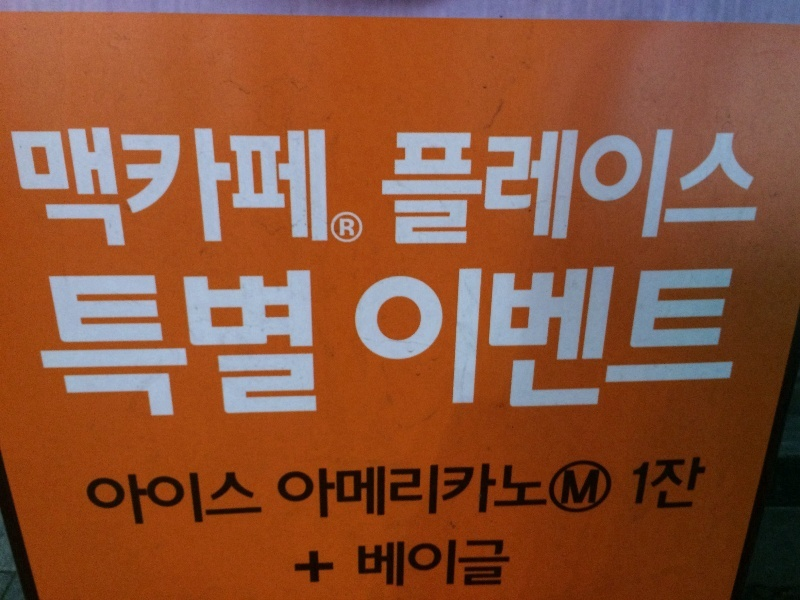text: (305, 267, 321, 423), (33, 267, 48, 423), (49, 267, 64, 423), (65, 267, 80, 423), (81, 267, 96, 423), (97, 267, 112, 423), (113, 267, 128, 423), (129, 267, 144, 423), (145, 267, 160, 423), (161, 267, 176, 423), (177, 267, 192, 423), (193, 267, 208, 423), (209, 267, 224, 423), (225, 267, 240, 423), (241, 267, 256, 423), (257, 267, 272, 423), (273, 267, 288, 423), (289, 267, 304, 423), (353, 262, 368, 413), (369, 262, 384, 413), (385, 262, 400, 413), (401, 262, 416, 413), (417, 262, 432, 413), (433, 262, 448, 413), (449, 262, 464, 413), (465, 262, 480, 413), (481, 262, 496, 413), (497, 262, 512, 413), (513, 262, 528, 413), (529, 262, 544, 413), (545, 262, 560, 413), (561, 262, 576, 413), (577, 262, 592, 413), (593, 262, 608, 413), (609, 262, 624, 413), (625, 262, 640, 413), (641, 262, 656, 413), (657, 262, 672, 413), (673, 262, 688, 413), (689, 262, 704, 413), (705, 262, 720, 413), (721, 262, 736, 413), (17, 125, 32, 253), (33, 125, 48, 253), (49, 125, 64, 253), (65, 125, 80, 253), (81, 125, 96, 253), (97, 125, 112, 253), (113, 125, 128, 253), (129, 125, 144, 253), (145, 125, 160, 253), (161, 125, 176, 253), (177, 125, 192, 253), (193, 125, 208, 253), (209, 125, 224, 253), (225, 125, 240, 253), (241, 125, 256, 253), (257, 125, 272, 253), (273, 125, 288, 253), (289, 125, 304, 253), (305, 125, 320, 253), (385, 126, 400, 250), (401, 126, 416, 250), (417, 126, 432, 250), (433, 126, 448, 250), (449, 126, 464, 250), (465, 126, 480, 250), (481, 126, 496, 250), (497, 126, 512, 250), (513, 126, 528, 250), (529, 126, 544, 250), (545, 126, 560, 250), (561, 126, 576, 250), (577, 126, 592, 250), (593, 126, 608, 250), (609, 126, 624, 250), (625, 126, 640, 250), (641, 126, 656, 250), (657, 126, 672, 250), (673, 126, 688, 250), (689, 126, 704, 250), (705, 126, 720, 250), (721, 126, 736, 250), (737, 126, 752, 250), (321, 125, 332, 253), (737, 262, 745, 413), (753, 126, 762, 250), (8, 125, 16, 253), (289, 461, 304, 521), (305, 461, 320, 521), (321, 461, 336, 521), (337, 461, 352, 521), (353, 461, 368, 521), (369, 461, 384, 521), (385, 461, 400, 521), (401, 461, 416, 521), (417, 461, 432, 521), (433, 461, 448, 521), (449, 461, 464, 521), (465, 461, 480, 521), (481, 461, 496, 521), (497, 461, 512, 521), (513, 461, 528, 521), (529, 461, 544, 521), (97, 470, 112, 529), (113, 470, 128, 529), (129, 470, 144, 529), (145, 470, 160, 529), (161, 470, 176, 529), (177, 470, 192, 529), (193, 470, 208, 529), (209, 470, 224, 529), (225, 470, 240, 529), (241, 470, 256, 529), (641, 455, 656, 512), (657, 455, 672, 512), (673, 455, 688, 512), (689, 455, 704, 512), (82, 470, 96, 529), (369, 538, 384, 588), (385, 538, 400, 588), (401, 538, 416, 588), (417, 538, 432, 588), (433, 538, 448, 588), (449, 538, 464, 588), (465, 538, 480, 588), (481, 538, 496, 588), (276, 461, 288, 521), (497, 538, 510, 588), (305, 549, 320, 588), (321, 549, 336, 588), (577, 469, 592, 507), (562, 469, 576, 507), (291, 549, 304, 588), (358, 538, 368, 588), (632, 455, 640, 512), (257, 470, 264, 529), (338, 217, 352, 240), (593, 469, 601, 507), (705, 455, 710, 512), (545, 461, 549, 521), (31, 267, 32, 423), (351, 262, 352, 413), (353, 217, 357, 240)
